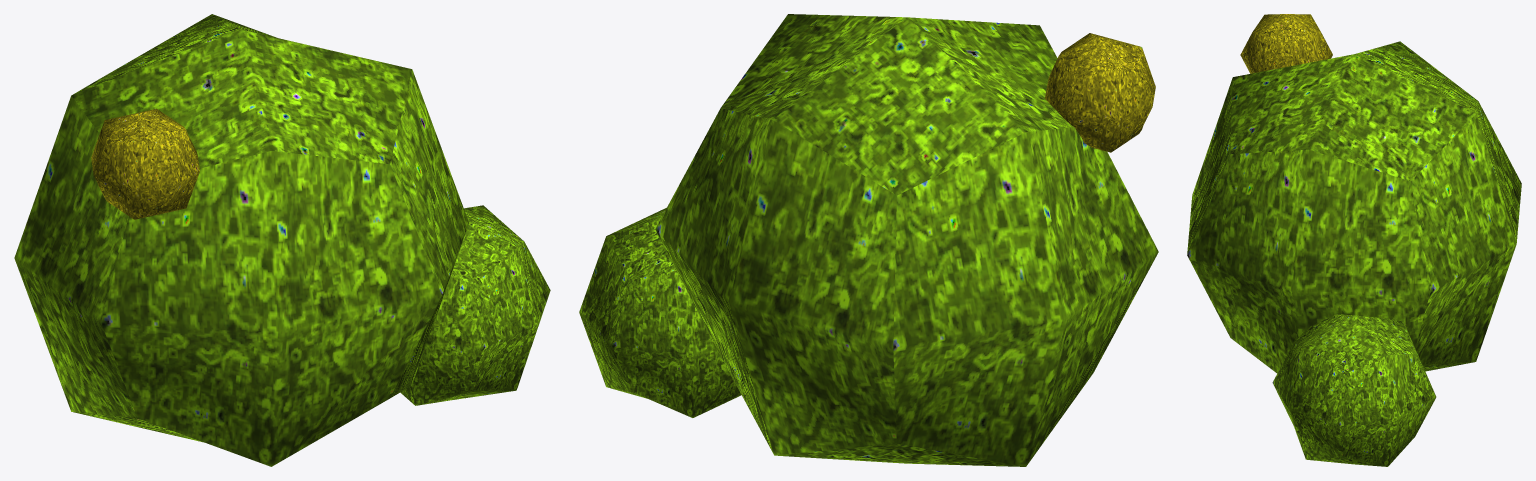
File: grass2.FBX
3 views of the same model, side by side, from view 1: azimuth 30°, elevation 25°; view 2: azimuth 150°, elevation 25°; view 3: azimuth 270°, elevation 25° (orthographic). The views are drawn at different scales.
Visible parts, largest first — view 1: Box001; view 2: Box001; view 3: Box001.
Part boxes in pixels (box(x1,y1,x2,y2)): Box001: box(14, 14, 550, 466); Box001: box(579, 14, 1158, 466); Box001: box(1187, 14, 1521, 466).
Bounding box in the file's own units: 15.3 × 12.6 × 11.56.
